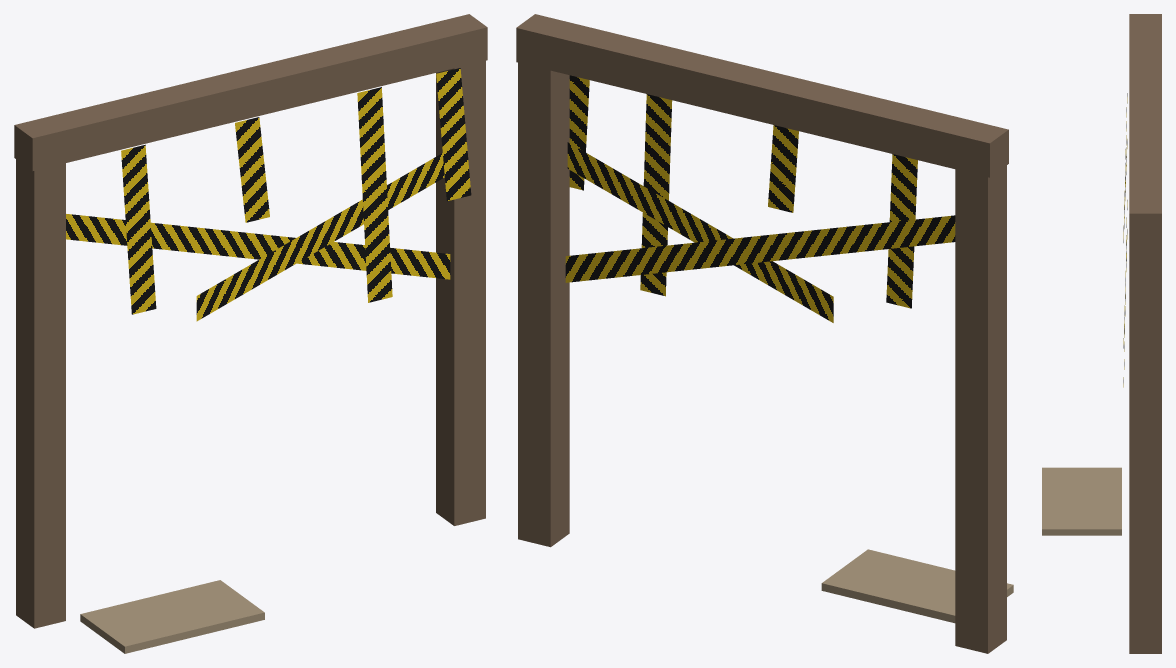
The model's file is fitas_entrada_porao.glb.
3 renders of one model, left to right at view 1: azimuth 30°, elevation 25°; view 2: azimuth 150°, elevation 25°; view 3: azimuth 270°, elevation 25°, orthographic. The views are drawn at different scales.
Visible parts, largest first — view 1: Malha_0; view 2: Malha_0; view 3: Malha_0.
Part boxes in pixels (x1,y1,x2,y2): Malha_0: (14, 14, 487, 653); Malha_0: (516, 14, 1013, 653); Malha_0: (1042, 14, 1161, 653).
Size of the model in its own units: 2.6 by 2.68 by 0.66.
Materials: 2 (1 with a texture image).
